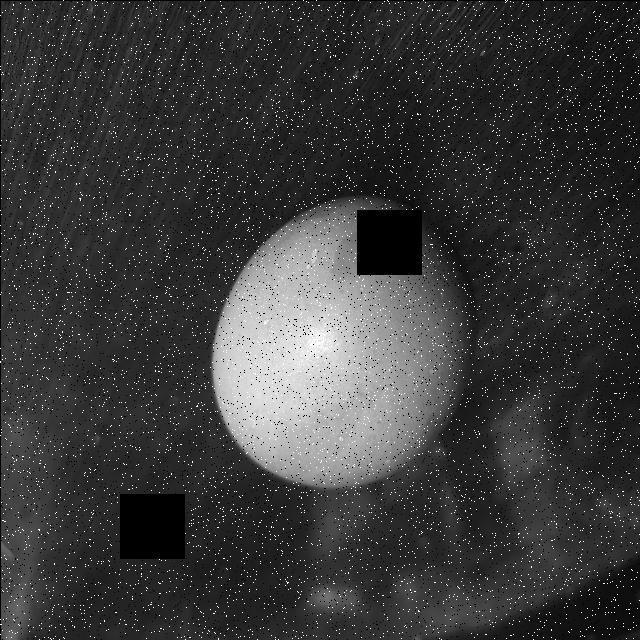egg: (204, 185, 484, 497)
